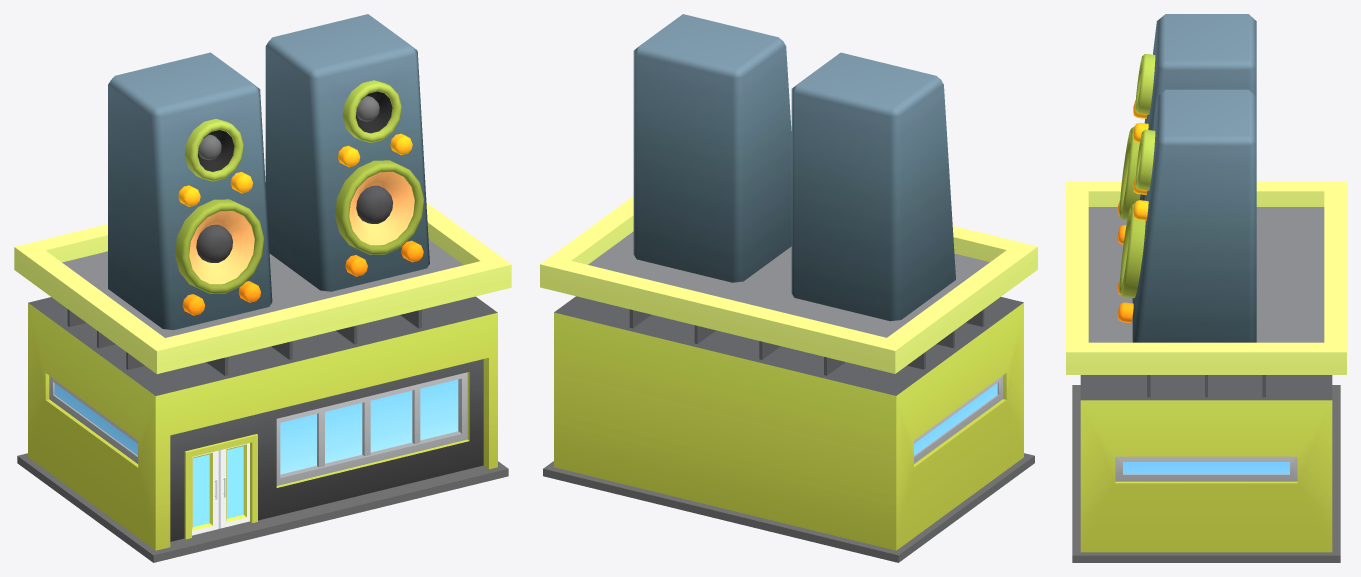
File: city2-building-service-04.glb
The picture shows the model from 3 angles, left to right: view 1: azimuth 30°, elevation 25°; view 2: azimuth 150°, elevation 25°; view 3: azimuth 270°, elevation 25°; orthographic projection.
Visible parts, largest first — view 1: Building_Service_04; view 2: Building_Service_04; view 3: Building_Service_04.
Part boxes in pixels (left/top/right/bottom): Building_Service_04: left=14, top=14, right=511, bottom=562; Building_Service_04: left=540, top=14, right=1037, bottom=562; Building_Service_04: left=1066, top=14, right=1346, bottom=562.
Bounding box in the file's own units: 9.86 × 10.86 × 6.86.
Materials: 1 (1 with a texture image).
